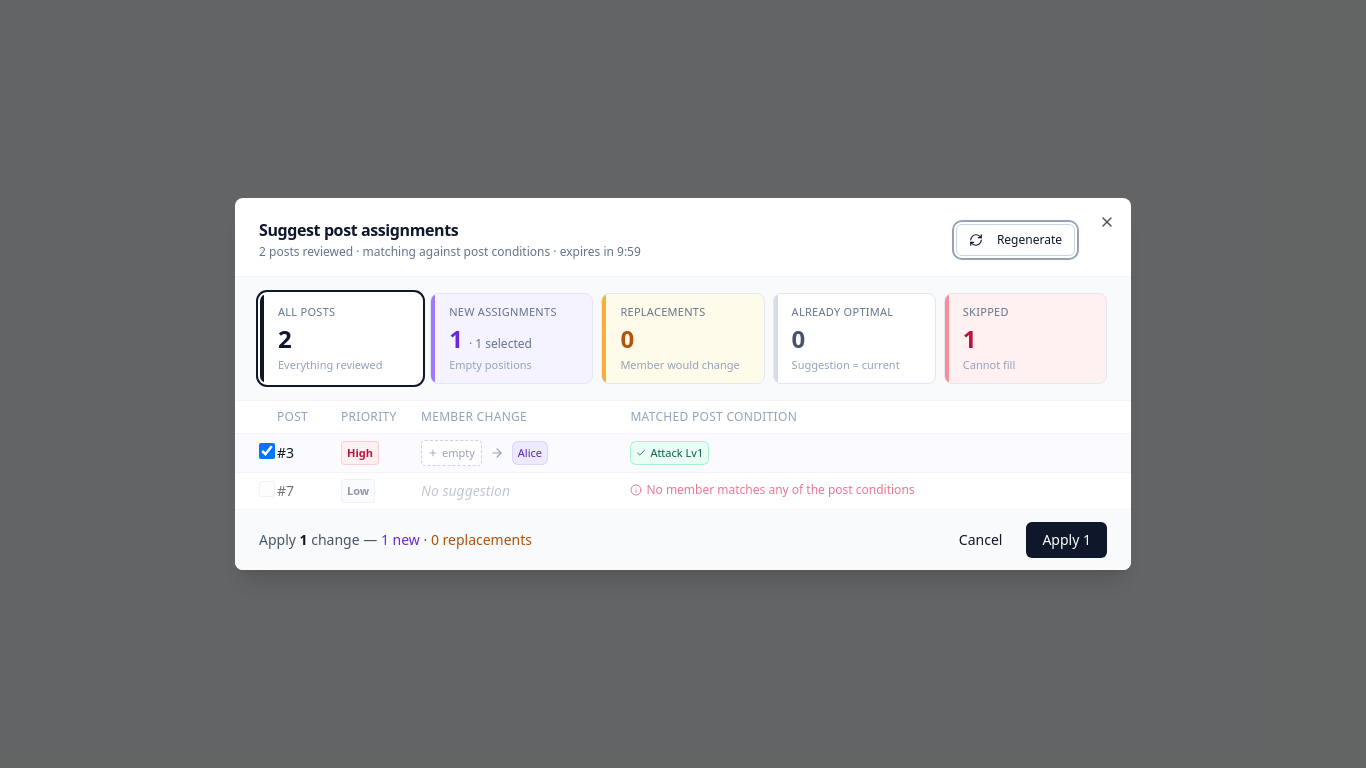
Scenario: PostSuggestionsModal › non-409 error shows the generic error banner
expect the text "Alice" is shown: met, box [512,441,548,465]
Step 1. Click the button "Apply 1" → (1067, 540), box [1026,522,1107,558]
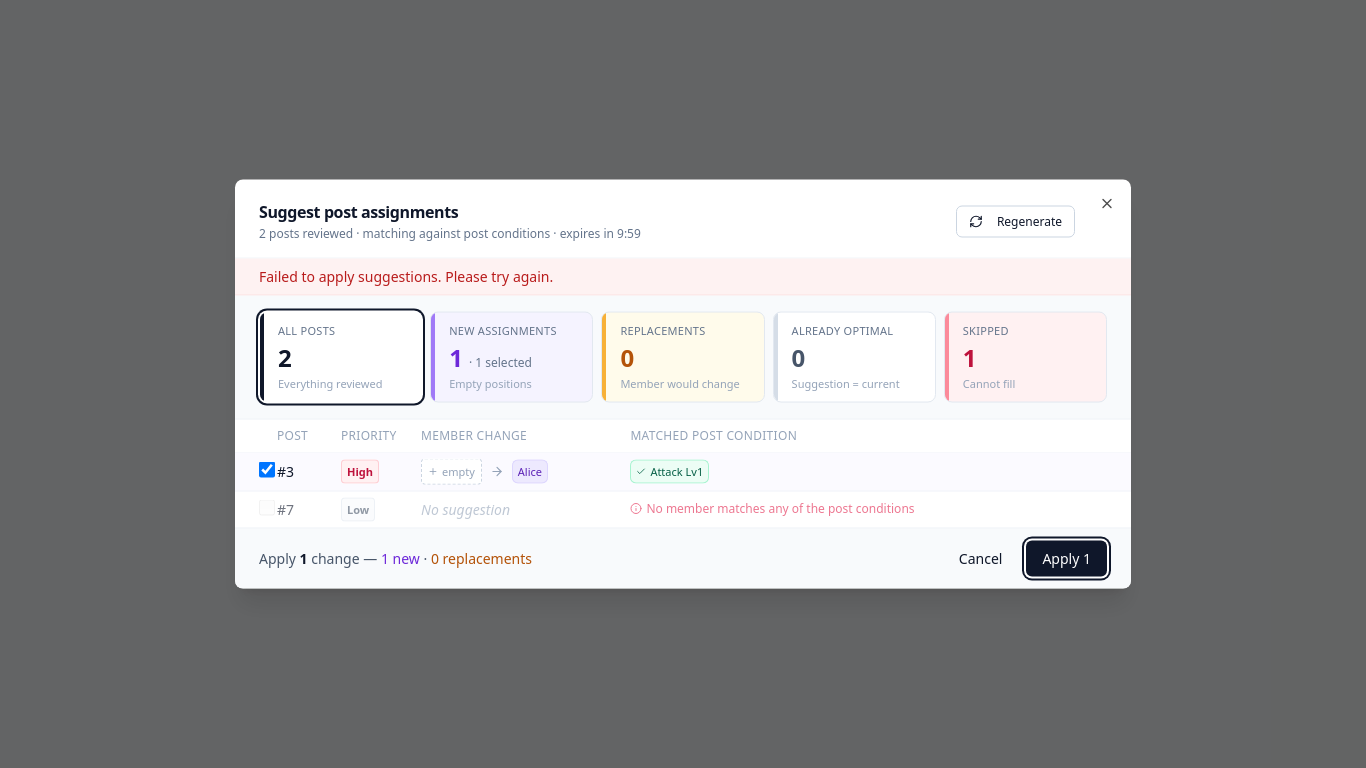
expect the text "Failed to apply suggestions. Please try again." is shown: met, box [235,258,1131,296]
